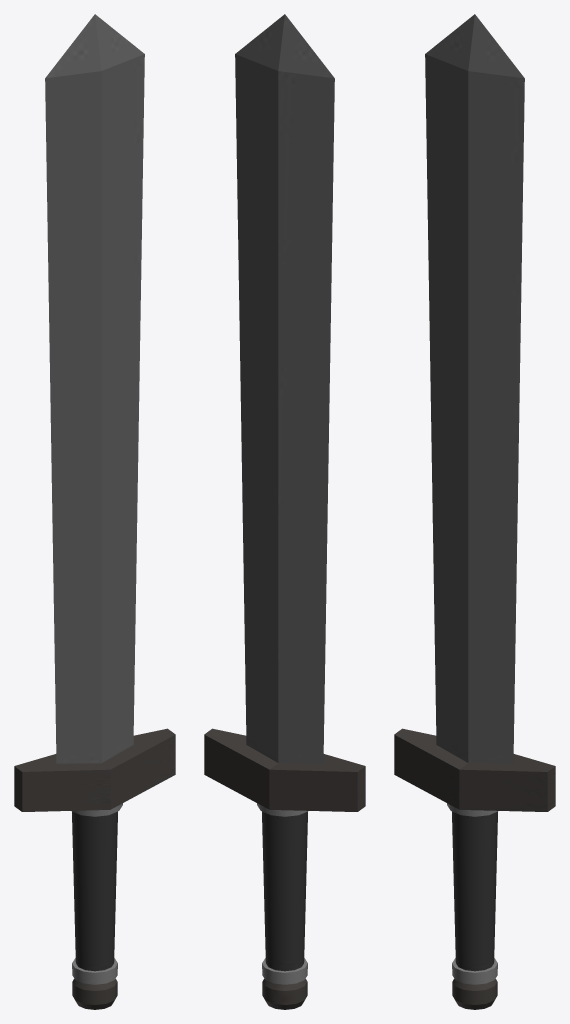
File: Short Sword.fbx
3 renders of one model, left to right at view 1: azimuth 30°, elevation 25°; view 2: azimuth 150°, elevation 25°; view 3: azimuth 330°, elevation 25°, orthographic.
Parts seen in each view (by area): view 1: Short Sword_Baked; view 2: Short Sword_Baked; view 3: Short Sword_Baked.
Part boxes in pixels (box(x1,y1,x2,y2)): Short Sword_Baked: box(14, 14, 175, 1009); Short Sword_Baked: box(204, 14, 365, 1009); Short Sword_Baked: box(394, 14, 555, 1009).
Size of the model in its own units: 12 by 73.8 by 4.2.
Materials: 1 (1 with a texture image).
